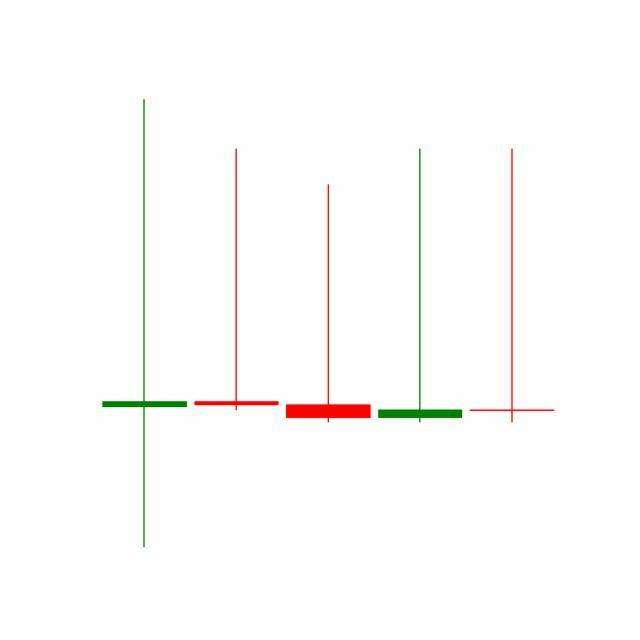Spinning Top: (466, 146, 559, 427)
